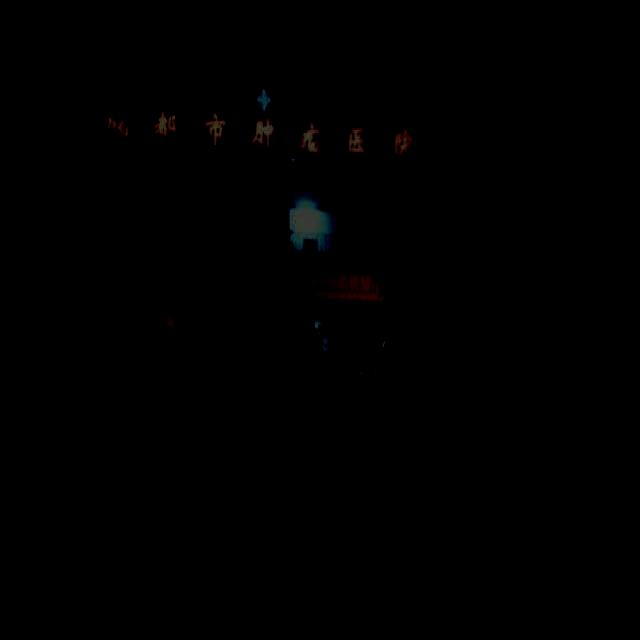Car: (172, 313, 232, 433), (284, 339, 328, 409)
